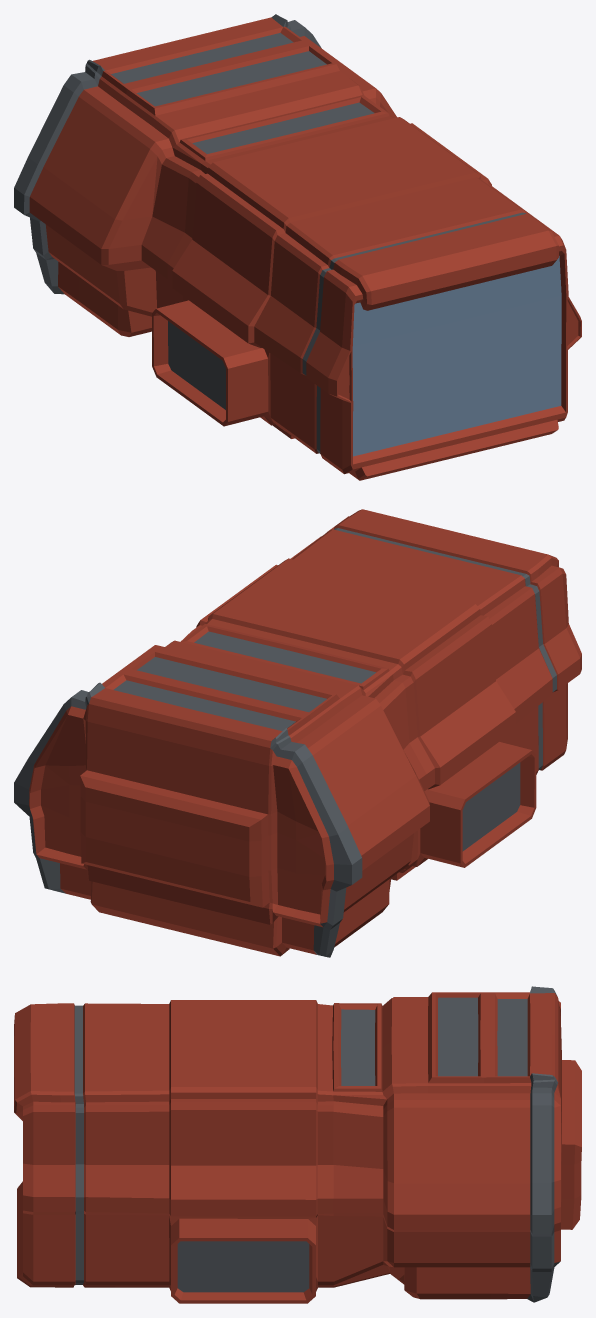
Rendered from Fighter_10_Frontal_Body_Red.fbx.
The picture shows the model from 3 angles, top to bottom: view 1: azimuth 30°, elevation 25°; view 2: azimuth 150°, elevation 25°; view 3: azimuth 270°, elevation 25°; orthographic projection. The views are drawn at different scales.
Parts seen in each view (by area): view 1: Fighter_10_Frontal_Body_Red; view 2: Fighter_10_Frontal_Body_Red; view 3: Fighter_10_Frontal_Body_Red.
Boxes of the visible parts, left/top/right/bottom form: Fighter_10_Frontal_Body_Red: left=14, top=14, right=581, bottom=480; Fighter_10_Frontal_Body_Red: left=14, top=509, right=581, bottom=957; Fighter_10_Frontal_Body_Red: left=14, top=986, right=581, bottom=1303.
Bounding box in the file's own units: 971 × 660 × 1478.
Materials: 3 (3 with a texture image).
